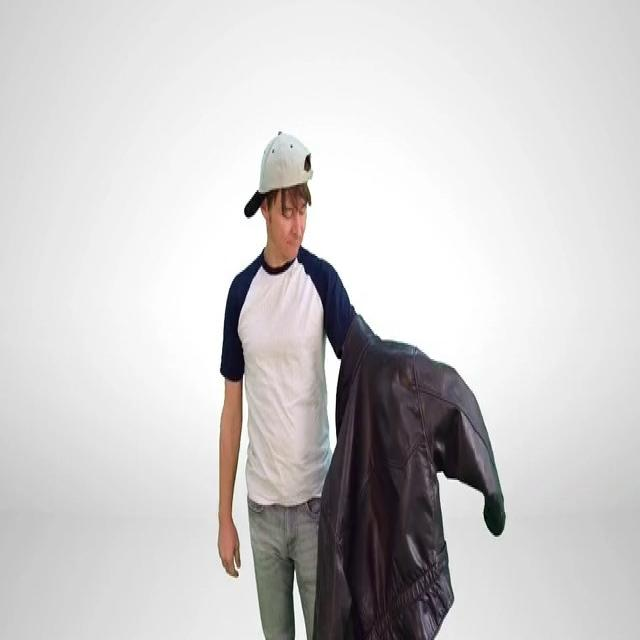Person: (215, 135, 371, 640)
